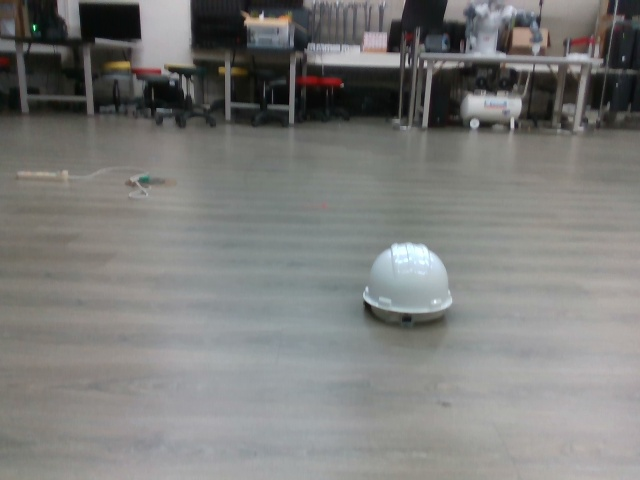helmet: (357, 237, 460, 332)
